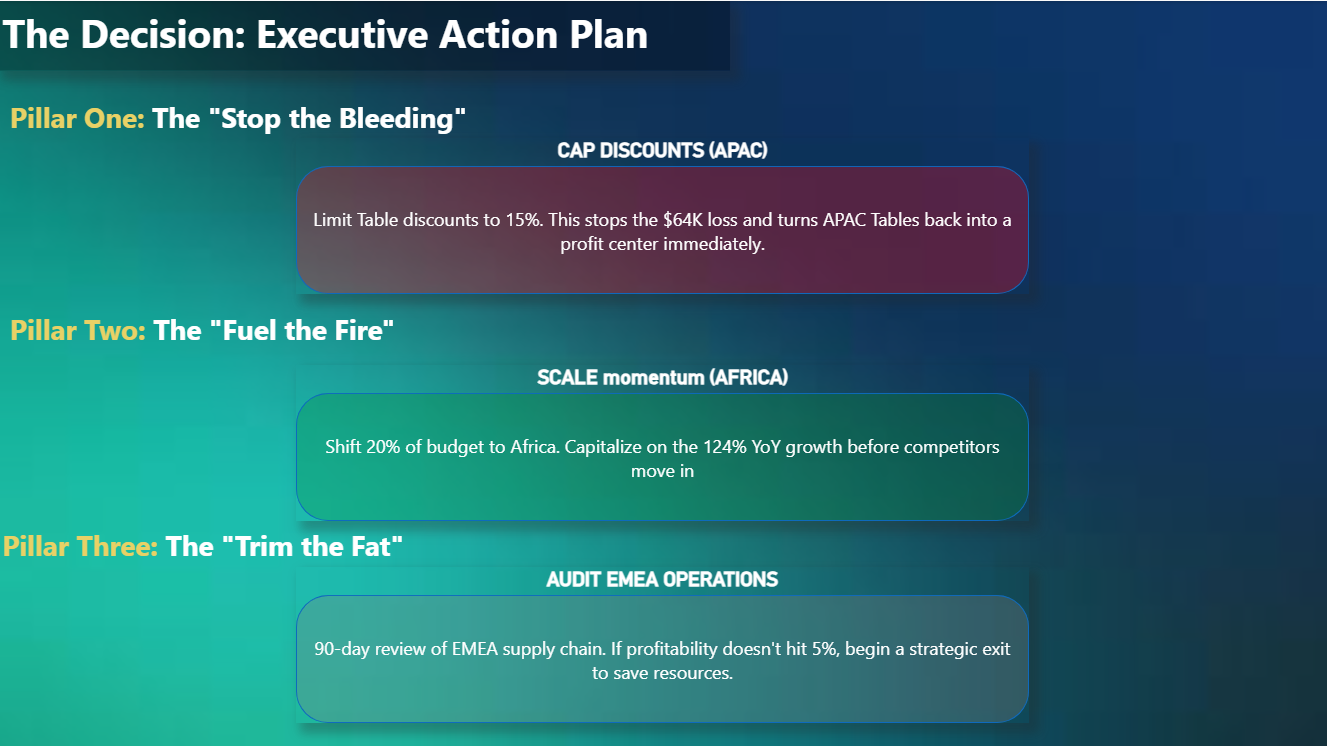

Layout of this report page (visuals, bound fields, positions):
{"tool":"powerbi","page":{"name":"Decision","canvas":[1280,720],"ordinal":3},"visuals":[{"type":"textbox","box":[0,0,704.9,67.3],"z":0},{"type":"shape","title":"CAP DISCOUNTS (APAC)","box":[287.5,117.3,704.9,150],"z":1000},{"type":"shape","title":"SCALE momentum (AFRICA)","box":[287.5,350.1,704.9,150],"z":2000},{"type":"shape","title":"AUDIT EMEA OPERATIONS","box":[287.5,544.3,704.9,150],"z":3000},{"type":"textbox","box":[0,88.5,473.1,57.7],"z":4000},{"type":"textbox","box":[0,292.4,502,57.7],"z":5000},{"type":"textbox","box":[0,500.1,502,57.7],"z":6000}]}

Visuals, with their boxes in screenshot pixels (x1, y1, x2, y2), scaled from the page's 1280x720 canvas onto the 1327x746 screenshot:
textbox: {"x1": 0, "y1": 0, "x2": 731, "y2": 70}
"CAP DISCOUNTS (APAC)" shape: {"x1": 298, "y1": 122, "x2": 1029, "y2": 277}
"SCALE momentum (AFRICA)" shape: {"x1": 298, "y1": 363, "x2": 1029, "y2": 518}
"AUDIT EMEA OPERATIONS" shape: {"x1": 298, "y1": 564, "x2": 1029, "y2": 719}
textbox: {"x1": 0, "y1": 92, "x2": 490, "y2": 151}
textbox: {"x1": 0, "y1": 303, "x2": 520, "y2": 363}
textbox: {"x1": 0, "y1": 518, "x2": 520, "y2": 578}
